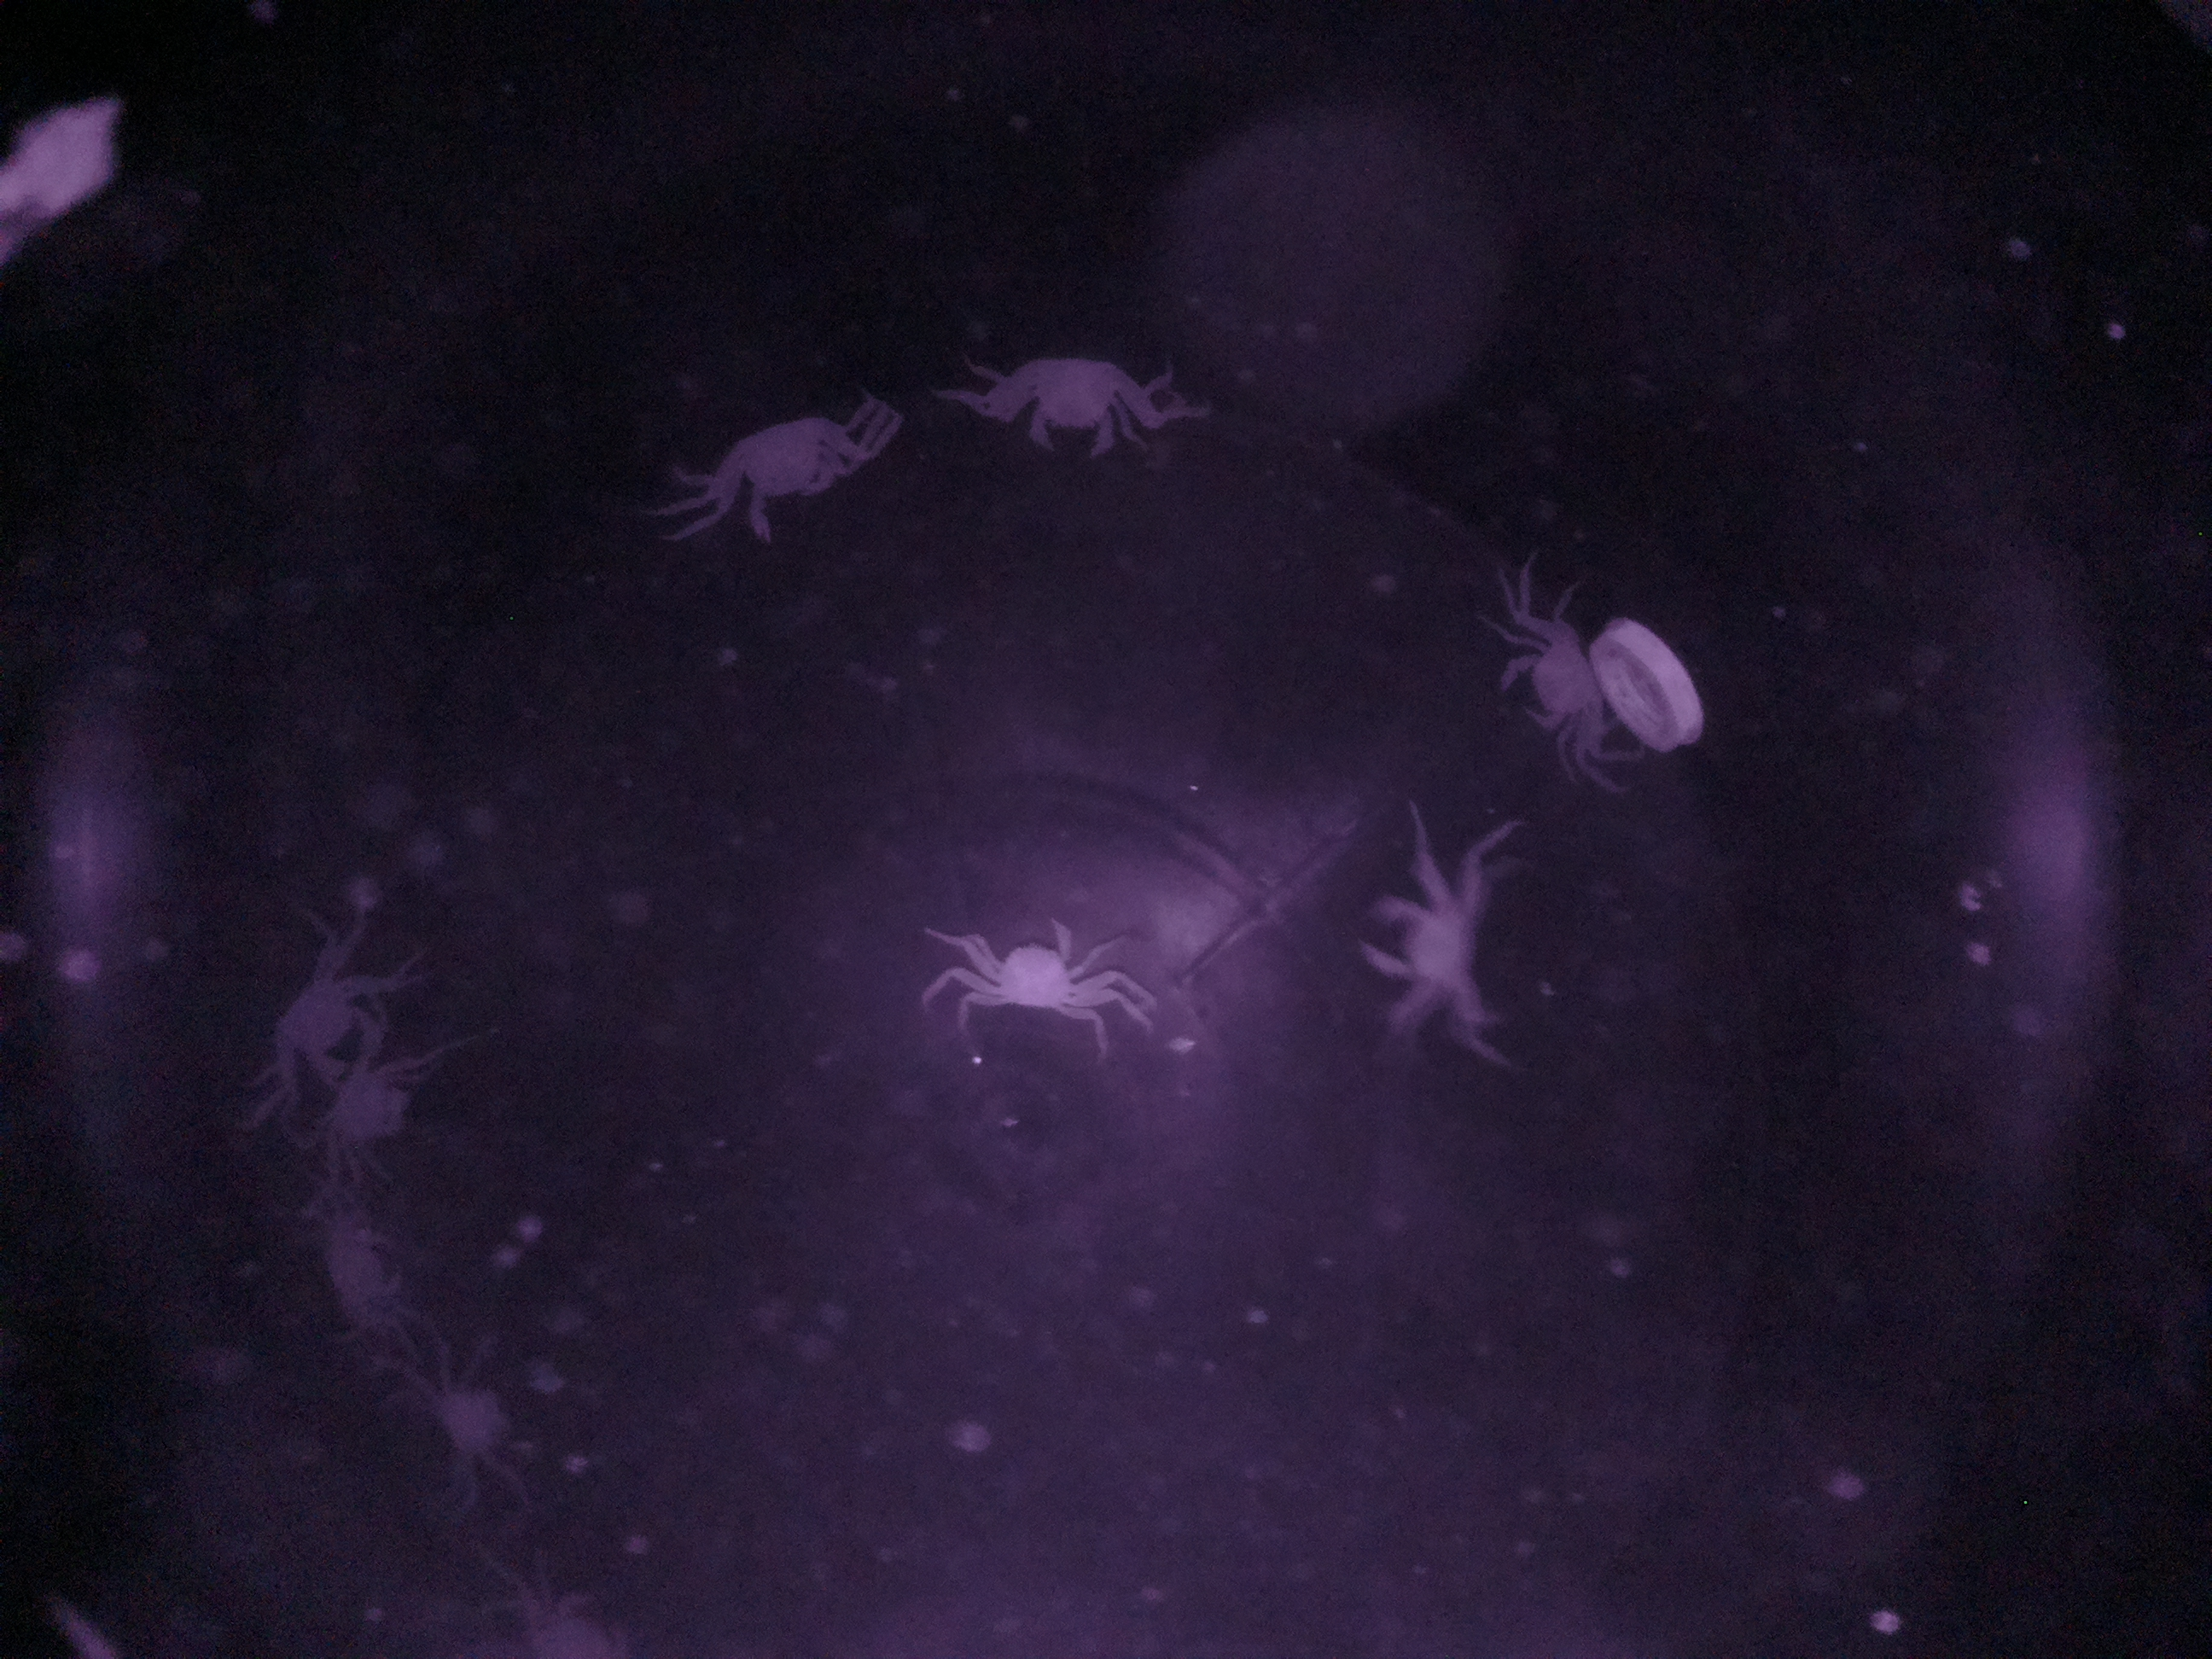Crab: (685, 397, 885, 566), (918, 908, 1136, 1049), (1491, 584, 1634, 781), (986, 331, 1158, 472)
